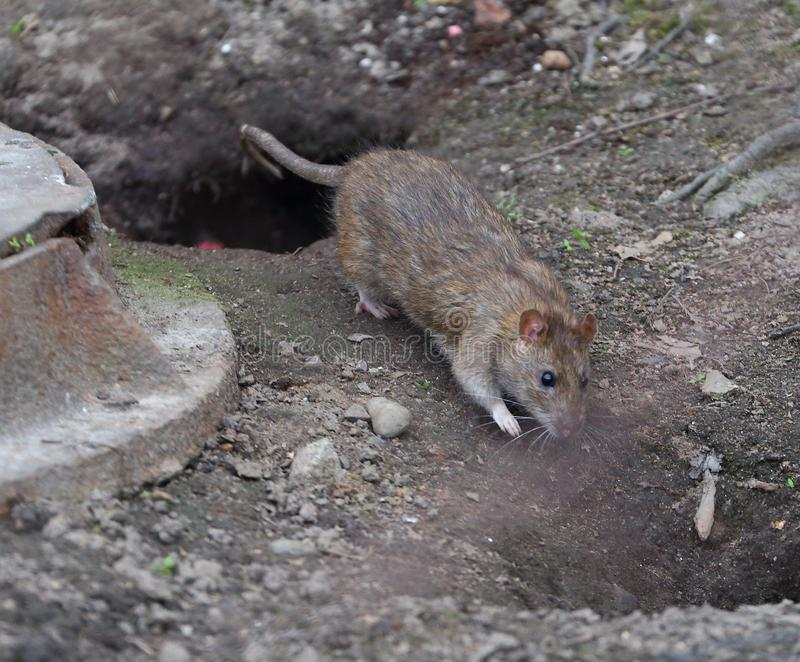rat: (232, 125, 597, 440)
